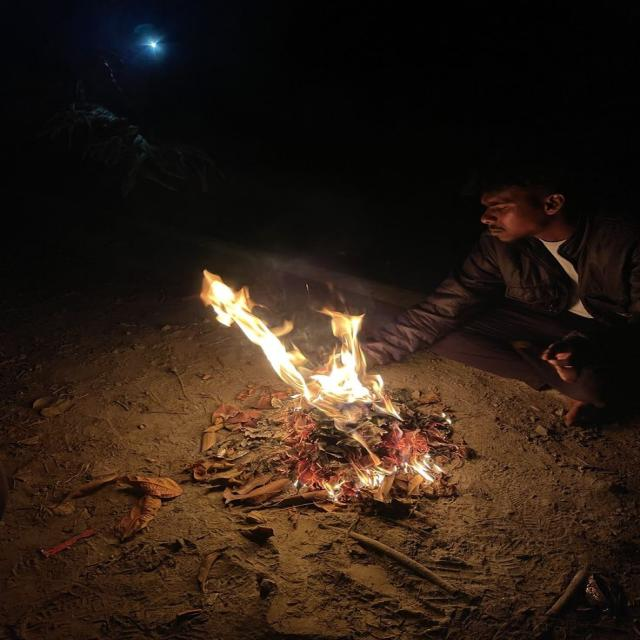fire: (200, 267, 313, 401), (313, 307, 371, 401)
